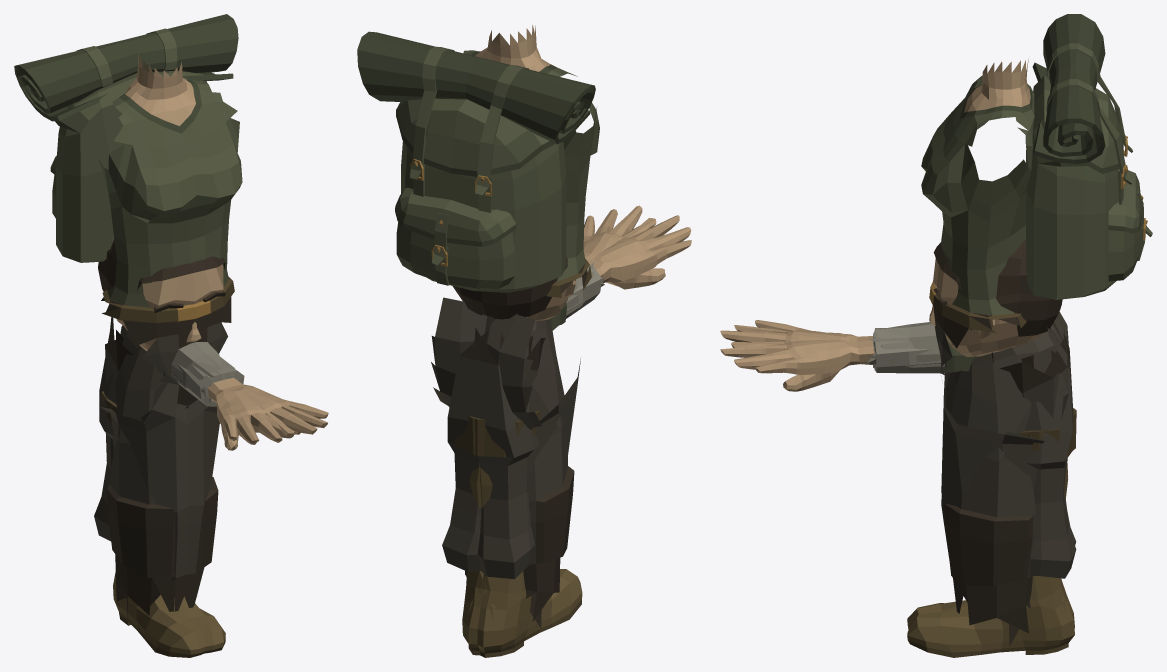
Rendered from loner_woman.glb.
The picture shows the model from 3 angles, left to right: view 1: azimuth 30°, elevation 25°; view 2: azimuth 150°, elevation 25°; view 3: azimuth 270°, elevation 25°; orthographic projection. The views are drawn at different scales.
Parts seen in each view (by area): view 1: torso, thighR, thighL, shinL, head, foreR, foreL, shinR, upperL, upperR; view 2: torso, shinL, thighR, shinR, thighL, foreR, head, foreL, upperL; view 3: torso, thighL, shinR, head, foreL, thighR, shinL, foreR, upperR, upperL.
Boxes of the visible parts, box(x1,y1,x2,y2) form: torso: box(14, 14, 242, 408); thighR: box(107, 325, 219, 615); thighL: box(100, 374, 218, 620); shinL: box(94, 317, 205, 657); head: box(98, 239, 225, 351); foreR: box(171, 362, 300, 444); foreL: box(209, 368, 328, 450); shinR: box(101, 339, 225, 653); upperL: box(157, 342, 234, 392); upperR: box(186, 342, 221, 398); torso: box(357, 25, 599, 348); shinL: box(468, 327, 582, 657); thighR: box(431, 297, 574, 621); shinR: box(442, 331, 545, 655); thighL: box(465, 313, 580, 628); foreR: box(566, 215, 691, 318); head: box(452, 256, 575, 320); foreL: box(583, 205, 665, 289); upperL: box(549, 262, 605, 330); torso: box(921, 14, 1152, 375); thighL: box(941, 312, 1068, 633); shinR: box(907, 331, 1076, 657); head: box(929, 240, 1062, 356); foreL: box(720, 332, 959, 374); thighR: box(941, 327, 1069, 646); shinL: box(907, 333, 1076, 629); foreR: box(720, 320, 881, 391); upperR: box(866, 325, 1014, 371); upperL: box(867, 322, 932, 364).
Bounding box in the file's own units: 0.4009 × 1.06 × 0.6997.
